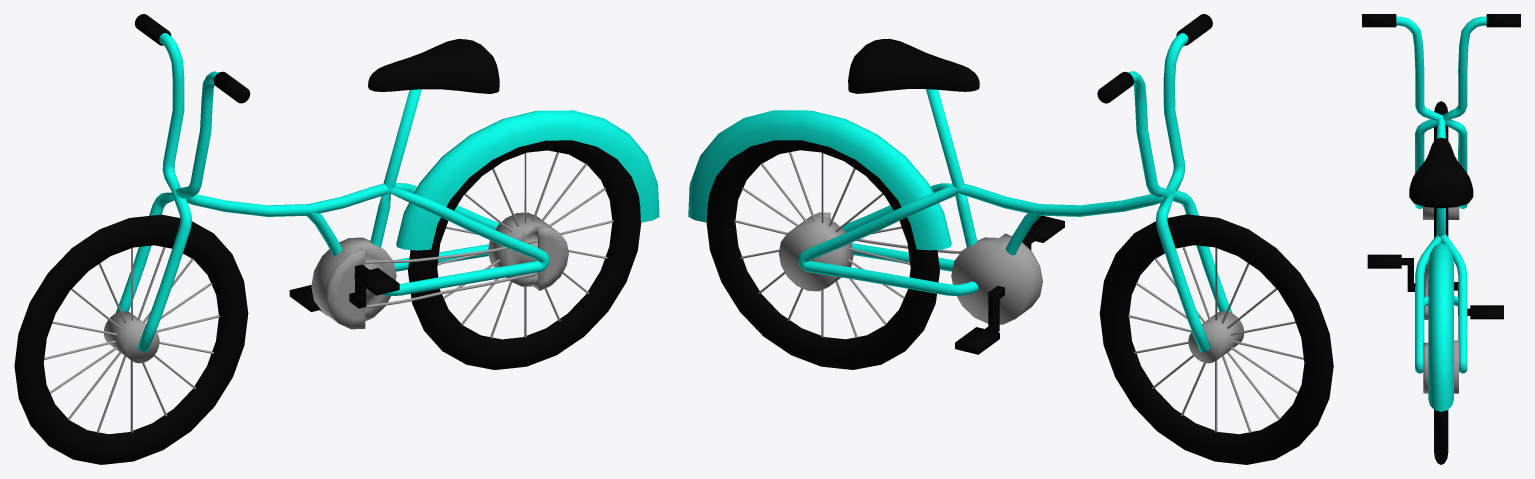
File: BikeBlue.fbx
3 renders of one model, left to right at view 1: azimuth 30°, elevation 25°; view 2: azimuth 150°, elevation 25°; view 3: azimuth 270°, elevation 25°, orthographic. The views are drawn at different scales.
Parts seen in each view (by area): view 1: Cube.007; view 2: Cube.007; view 3: Cube.007.
Part boxes in pixels (x1,y1,x2,y2): Cube.007: (14,14,659,464); Cube.007: (688,14,1333,464); Cube.007: (1362,14,1520,464).
Bounding box in the file's own units: 253 × 149 × 68.44.
